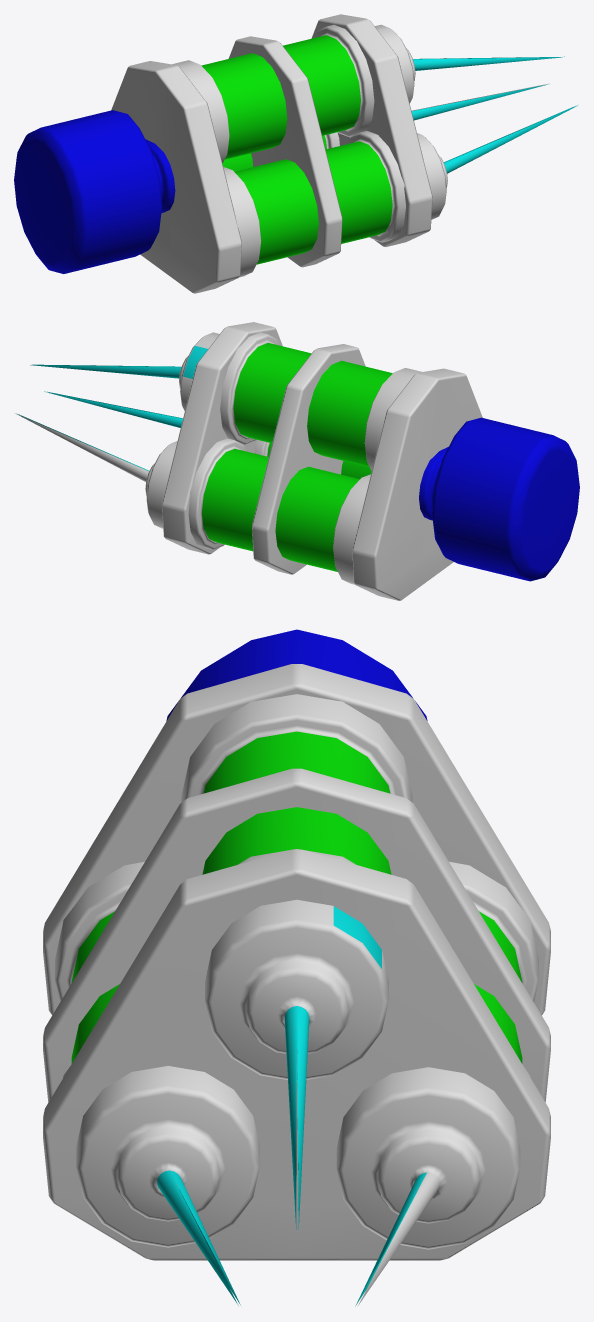
Rendered from SM_QuickUseItemLargeHealth.fbx.
The picture shows the model from 3 angles, top to bottom: view 1: azimuth 30°, elevation 25°; view 2: azimuth 150°, elevation 25°; view 3: azimuth 270°, elevation 25°; orthographic projection. The views are drawn at different scales.
Visible parts, largest first — view 1: LargeHealthPickup, LargeHealthPickupNeedle; view 2: LargeHealthPickup, LargeHealthPickupNeedle; view 3: LargeHealthPickup, LargeHealthPickupNeedle.
Boxes of the visible parts, x1=… form: LargeHealthPickup: x1=14, y1=14, x2=432, y2=293; LargeHealthPickupNeedle: x1=375, y1=24, x2=577, y2=219; LargeHealthPickup: x1=162, y1=322, x2=579, y2=600; LargeHealthPickupNeedle: x1=15, y1=332, x2=219, y2=528; LargeHealthPickup: x1=43, y1=629, x2=550, y2=1260; LargeHealthPickupNeedle: x1=76, y1=899, x2=520, y2=1306.
Bounding box in the file's own units: 19 × 8.02 × 6.82.
